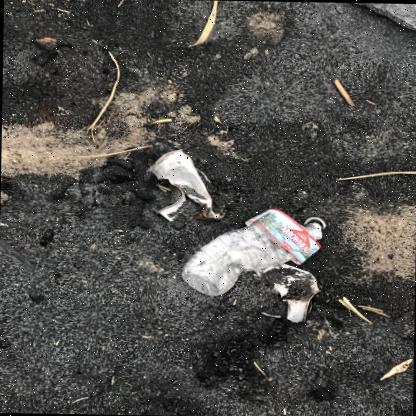Clear plastic bottle: (181, 208, 322, 296)
Drink can: (148, 149, 226, 222), (253, 262, 320, 323)
Other plastic bottle: (302, 217, 325, 228)
